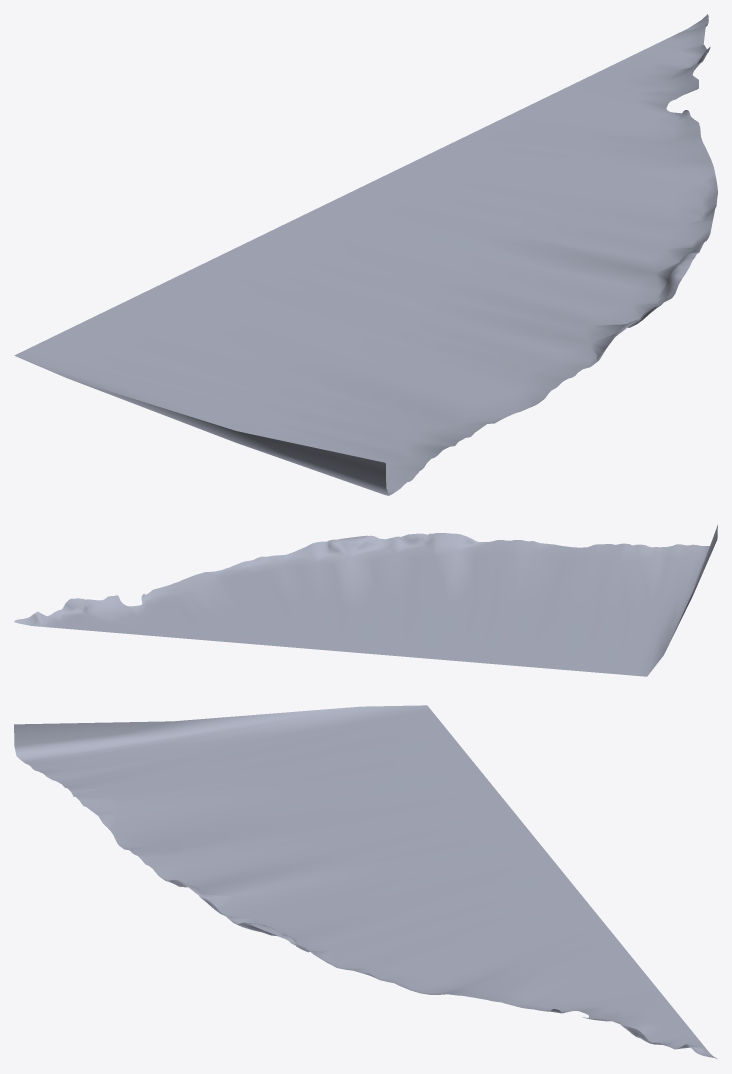
The model's file is River.fbx.
3 renders of one model, top to bottom at view 1: azimuth 30°, elevation 25°; view 2: azimuth 150°, elevation 25°; view 3: azimuth 270°, elevation 25°, orthographic. The views are drawn at different scales.
Parts seen in each view (by area): view 1: Mesh: ON_Mesh.m_F[3] has degenerate float precision vertex l; view 2: Mesh: ON_Mesh.m_F[3] has degenerate float precision vertex l; view 3: Mesh: ON_Mesh.m_F[3] has degenerate float precision vertex l.
Part boxes in pixels (box(x1,y1,x2,y2)): Mesh: ON_Mesh.m_F[3] has degenerate float precision vertex l: box(14, 14, 717, 495); Mesh: ON_Mesh.m_F[3] has degenerate float precision vertex l: box(14, 525, 717, 676); Mesh: ON_Mesh.m_F[3] has degenerate float precision vertex l: box(14, 705, 717, 1059).
Size of the model in its own units: 815 by 36.06 by 678.
